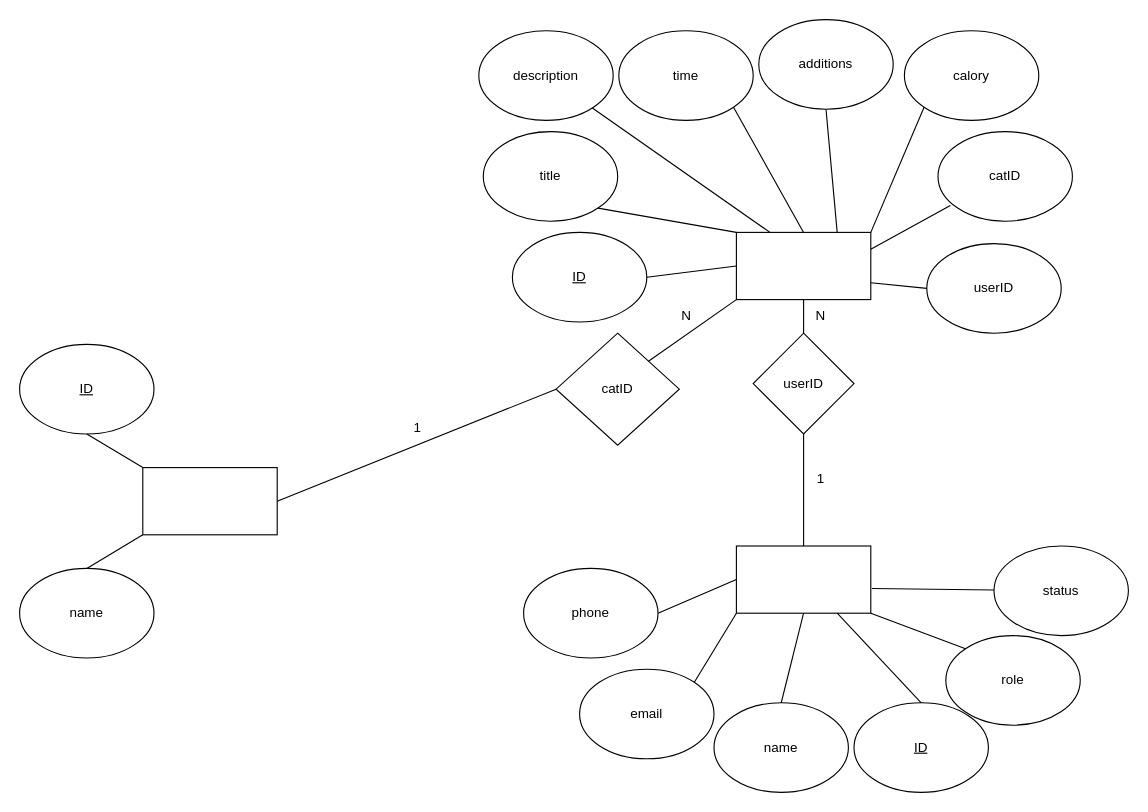
Some shapes in this 1148 by 812 pixel diagram are drawn without their labels. The shapes that lost their labels are listed below. From the top down, each one's box as (x1, y1, x2, y2) in pixels, then its label:
(735, 231, 871, 300): Recipes
(142, 466, 277, 535): Categories
(735, 545, 871, 613): Users
